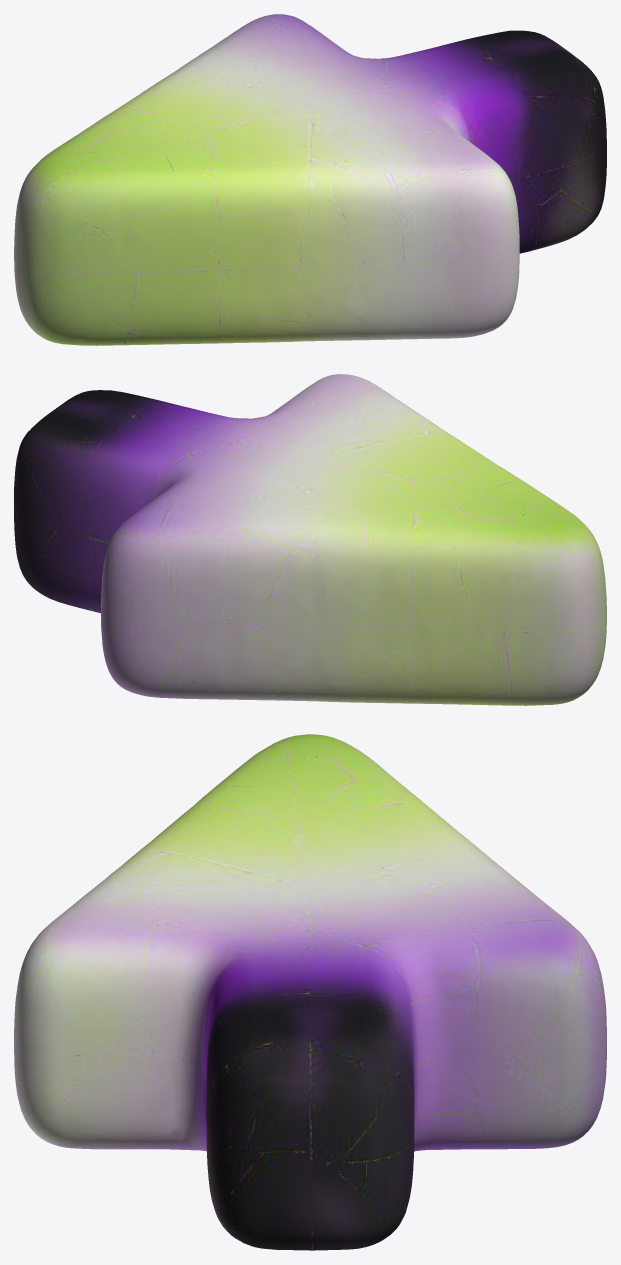
File: glass-cursor-lite.glb
3 renders of one model, top to bottom at view 1: azimuth 30°, elevation 25°; view 2: azimuth 150°, elevation 25°; view 3: azimuth 270°, elevation 25°, orthographic. The views are drawn at different scales.
Parts seen in each view (by area): view 1: mesh_node; view 2: mesh_node; view 3: mesh_node.
Part boxes in pixels (x1,y1,x2,y2): mesh_node: (14, 14, 606, 345); mesh_node: (14, 374, 606, 705); mesh_node: (14, 734, 606, 1250).
Bounding box in the file's own units: 1.9 × 0.5826 × 1.41.
1 material, 1 textured.
